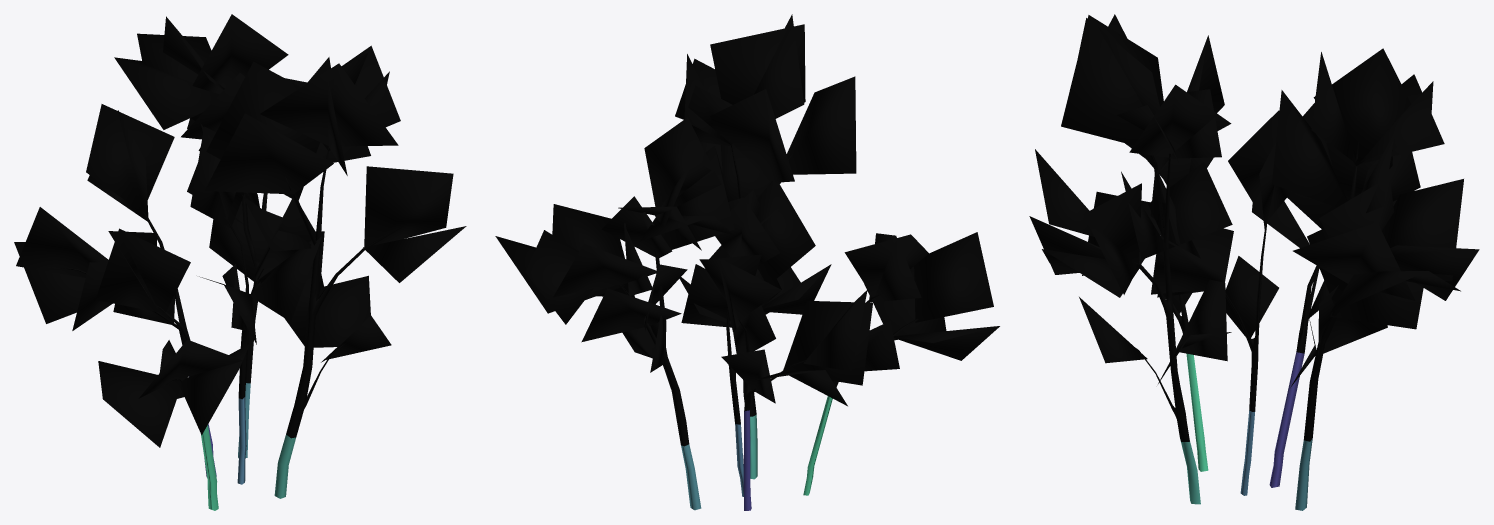
The picture shows the model from 3 angles, left to right: view 1: azimuth 30°, elevation 25°; view 2: azimuth 150°, elevation 25°; view 3: azimuth 270°, elevation 25°; orthographic projection. The views are drawn at different scales.
Visible parts, largest first — view 1: G:\FFXIV-MapTools\exports\s1f5\bg\ffxiv\sea_s1\fld\s1f5\bgpa (×3); view 2: G:\FFXIV-MapTools\exports\s1f5\bg\ffxiv\sea_s1\fld\s1f5\bgpa (×3); view 3: G:\FFXIV-MapTools\exports\s1f5\bg\ffxiv\sea_s1\fld\s1f5\bgpa (×3).
Part boxes in pixels (bbox=[...]): G:\FFXIV-MapTools\exports\s1f5\bg\ffxiv\sea_s1\fld\s1f5\bgpa (×3): bbox=[14, 14, 466, 510]; G:\FFXIV-MapTools\exports\s1f5\bg\ffxiv\sea_s1\fld\s1f5\bgpa (×3): bbox=[495, 14, 999, 510]; G:\FFXIV-MapTools\exports\s1f5\bg\ffxiv\sea_s1\fld\s1f5\bgpa (×3): bbox=[1029, 14, 1479, 510].
Bounding box in the file's own units: 11.63 × 13.16 × 10.93.
